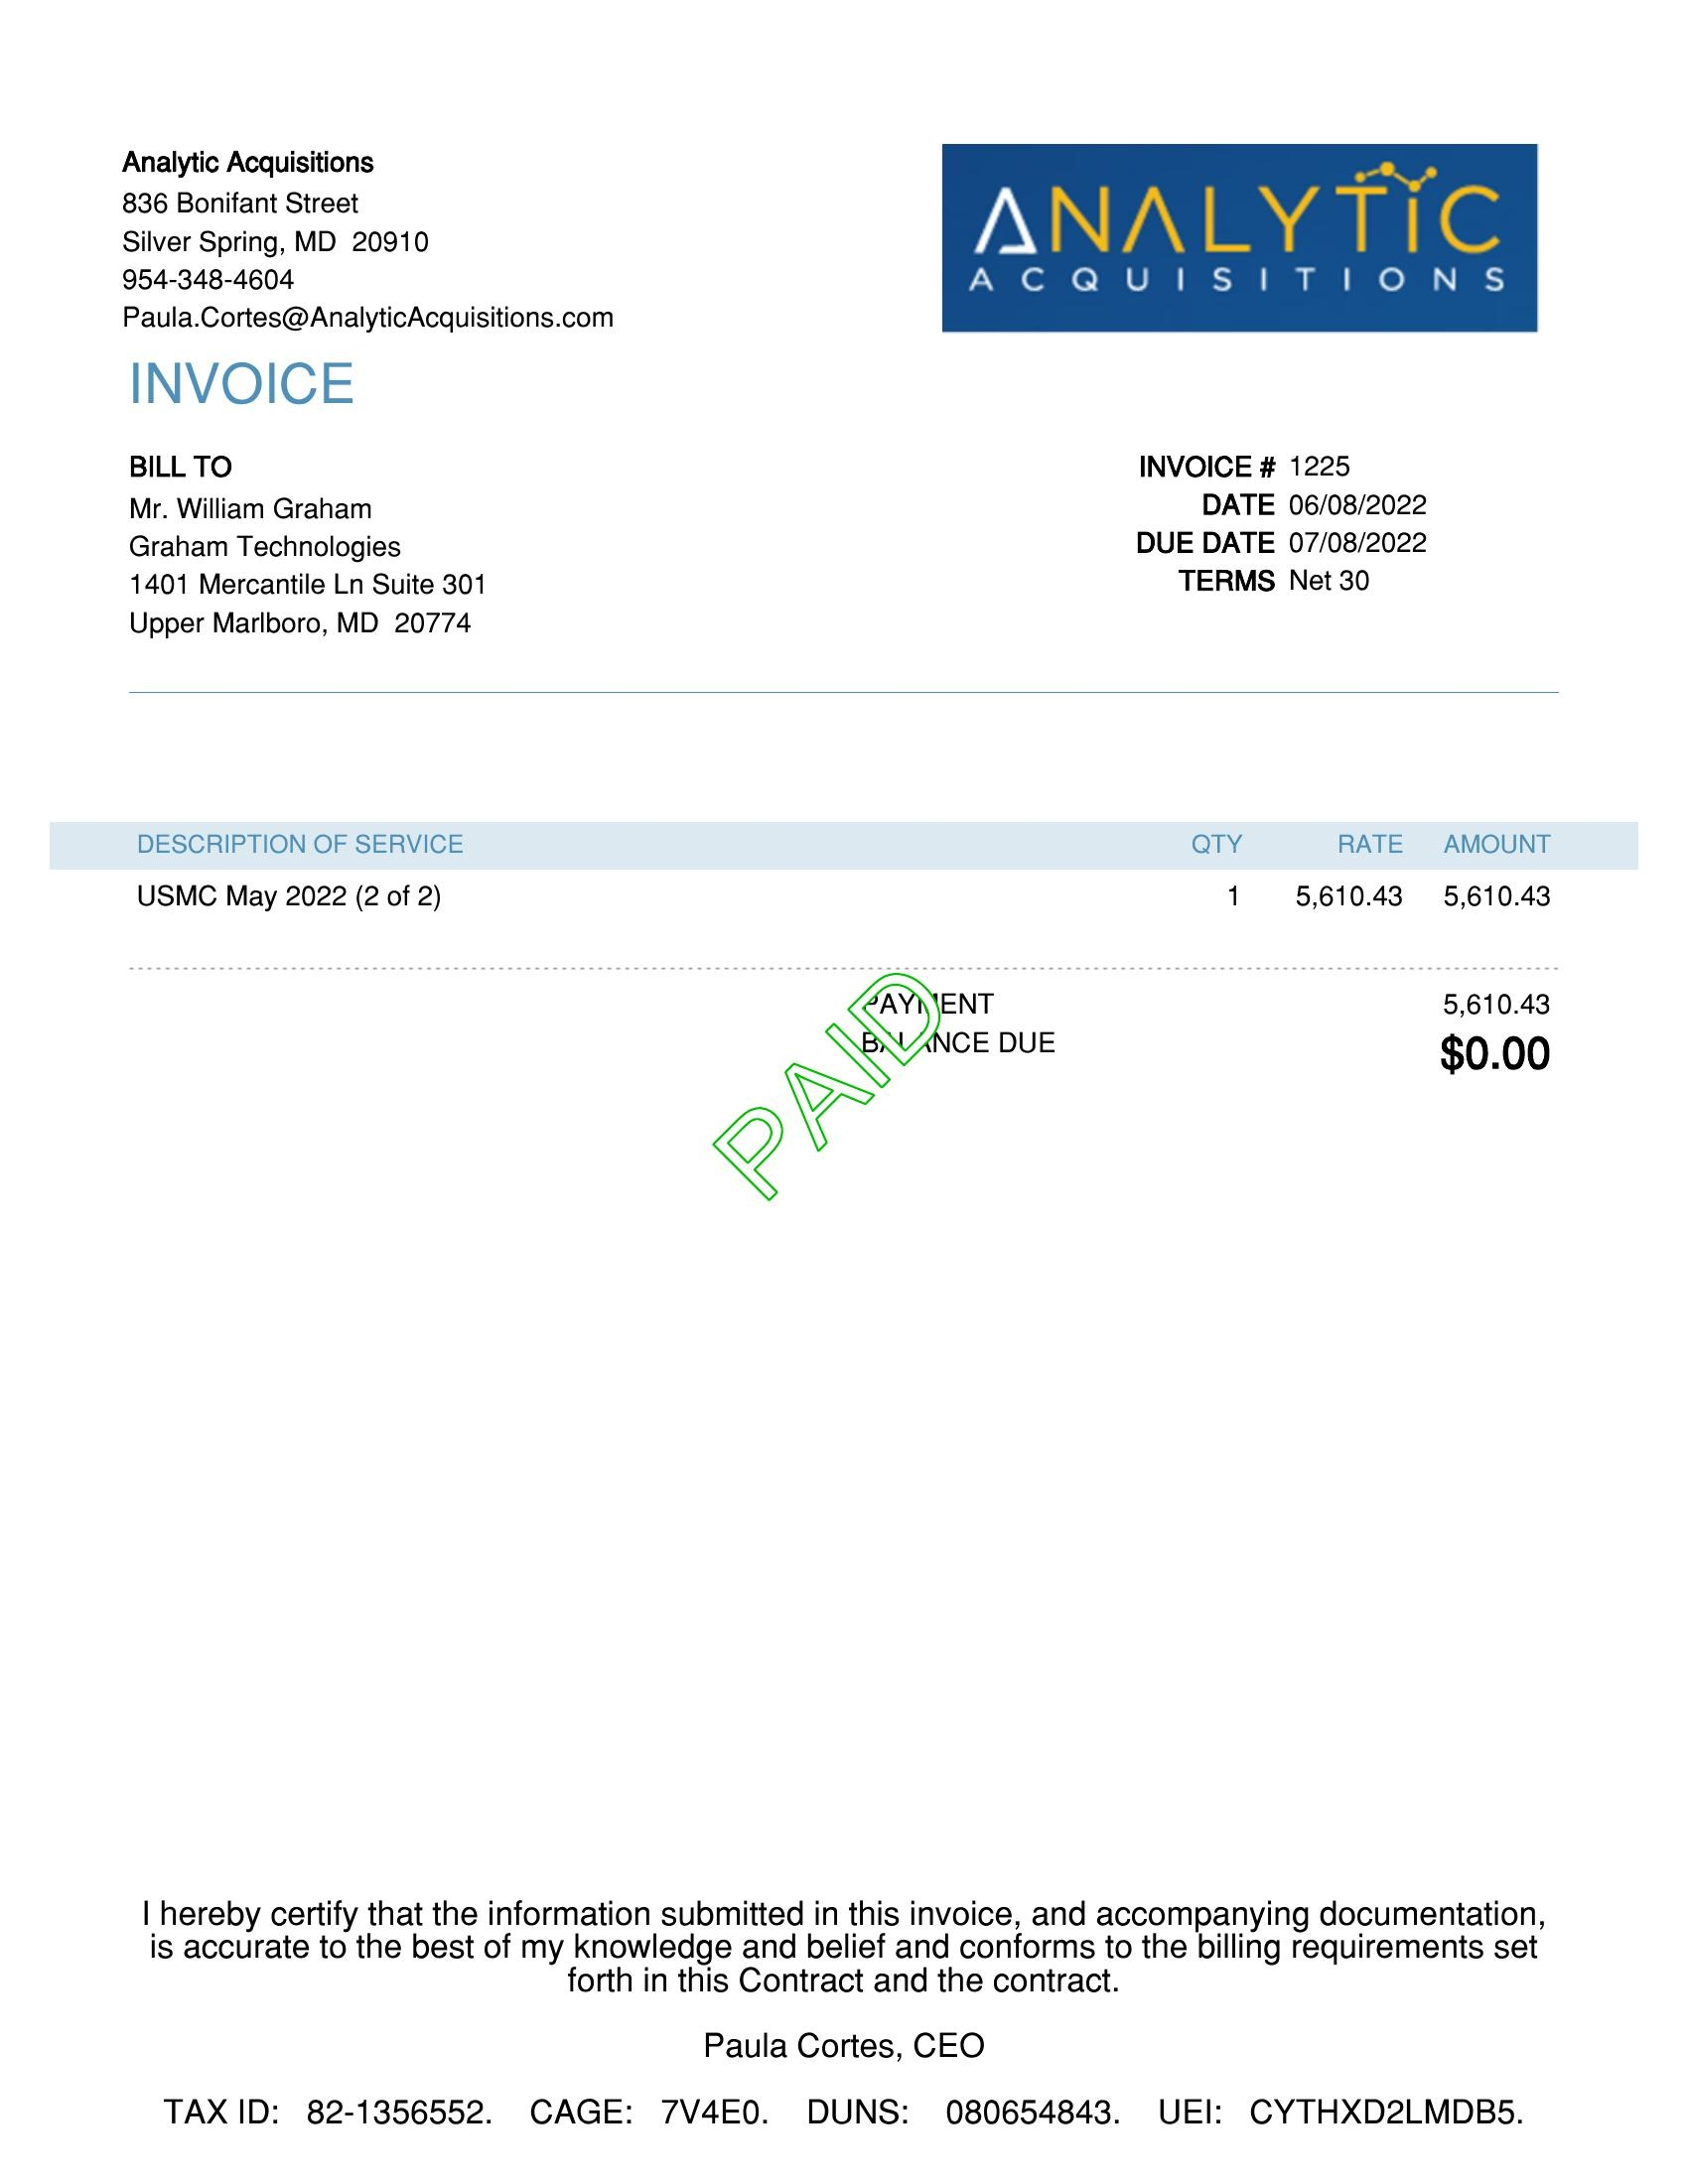table: (94, 773, 1624, 966)
